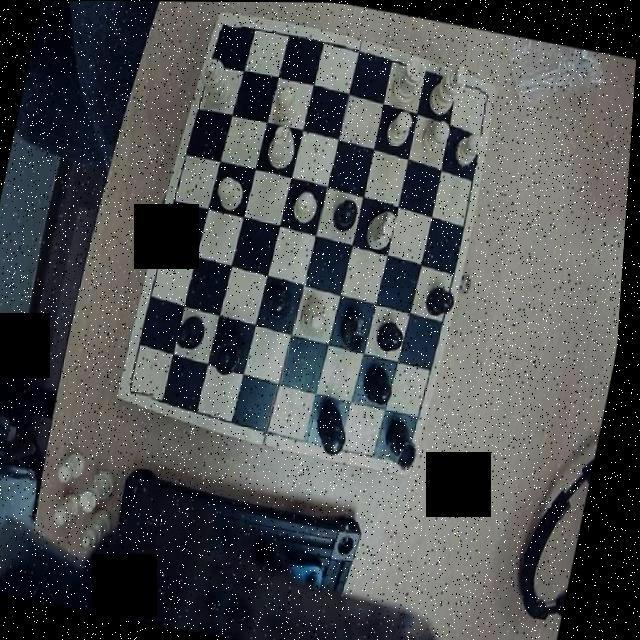chess-table-corners: (124, 368, 162, 403), (386, 437, 424, 472), (468, 78, 499, 110), (210, 15, 243, 45)
